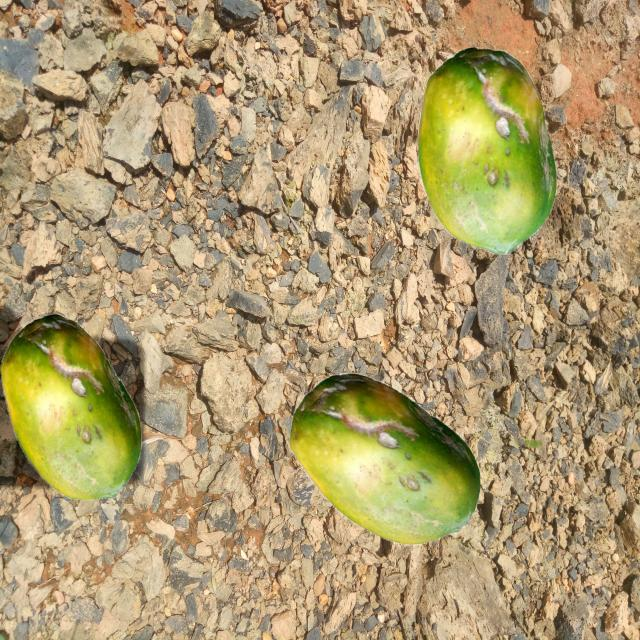Pepaya rippen: (278, 358, 486, 559), (415, 55, 558, 255), (0, 303, 144, 496)
